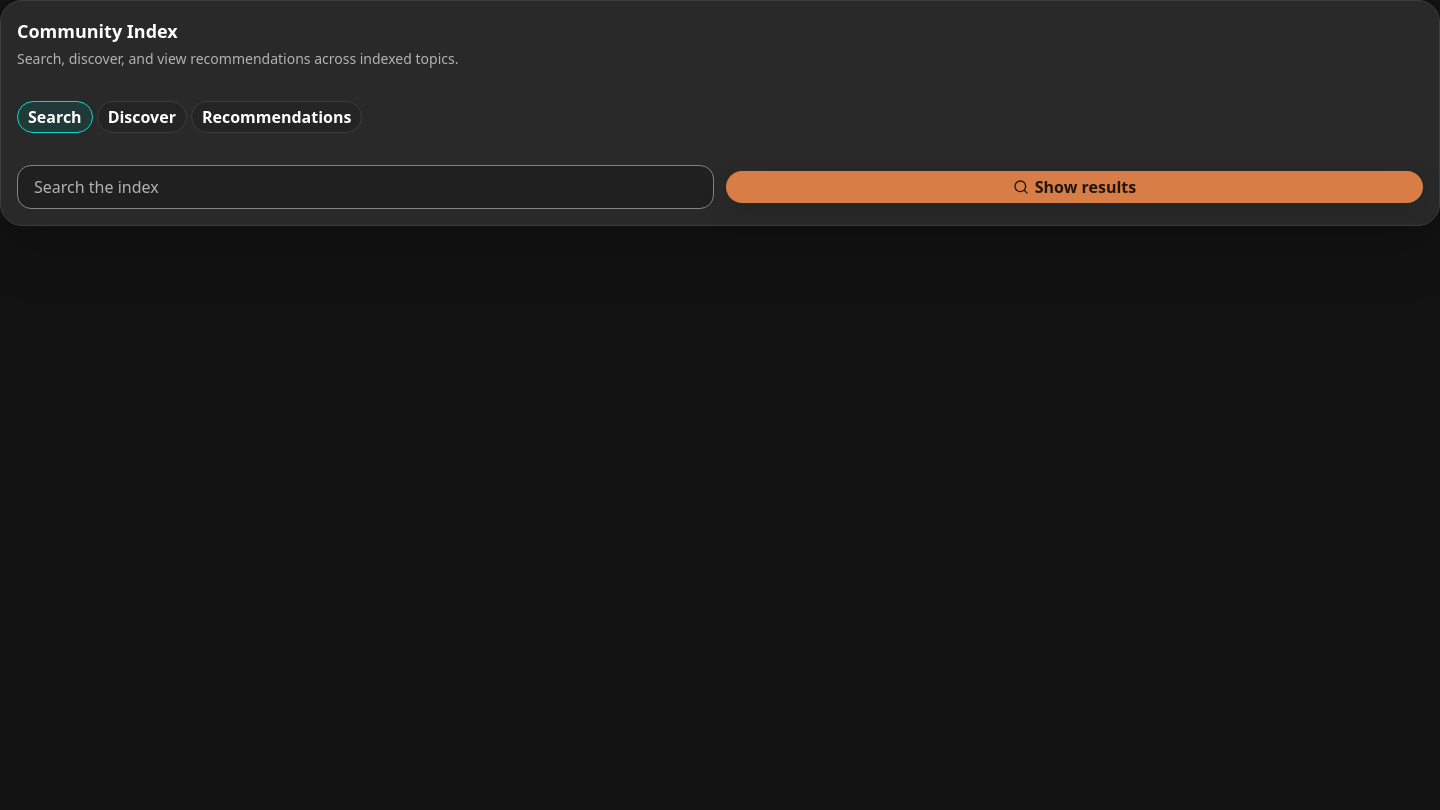
Scenario: an empty Explore search points to the topic list instead of requesting indexing for one topic
Type "CliPeerA" into the field named "Search query" at [366, 187], box [17, 165, 714, 209]
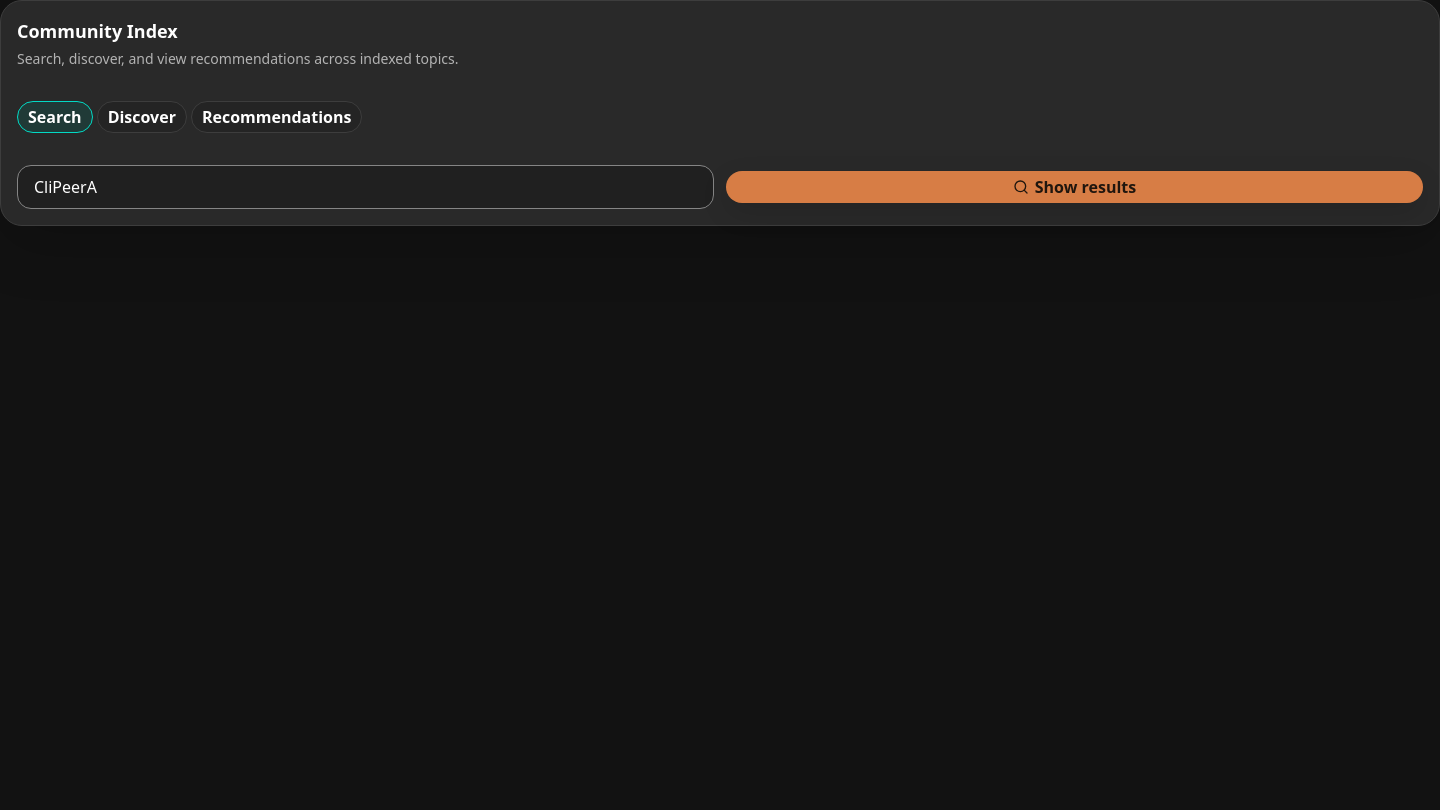
Click the button "Show results" at [1074, 187], box [726, 171, 1423, 203]
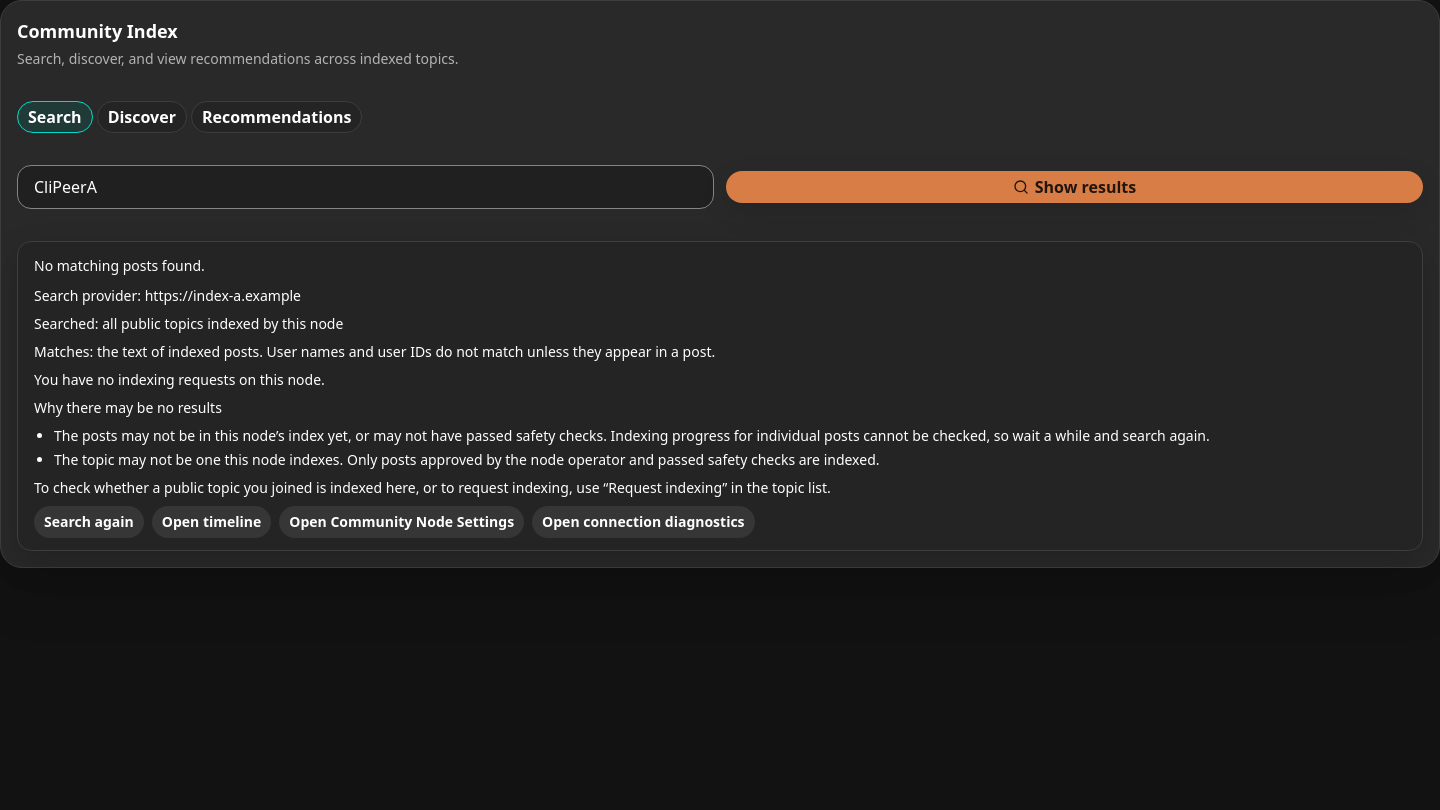
Result: the text "Searched: all public topics indexed by this node" is shown at [34, 314, 343, 333]
Result: the text "use “Request indexing” in the topic list" is shown at [34, 478, 831, 497]
Result: the text "You have no indexing requests on this node." is shown at [34, 370, 325, 389]
